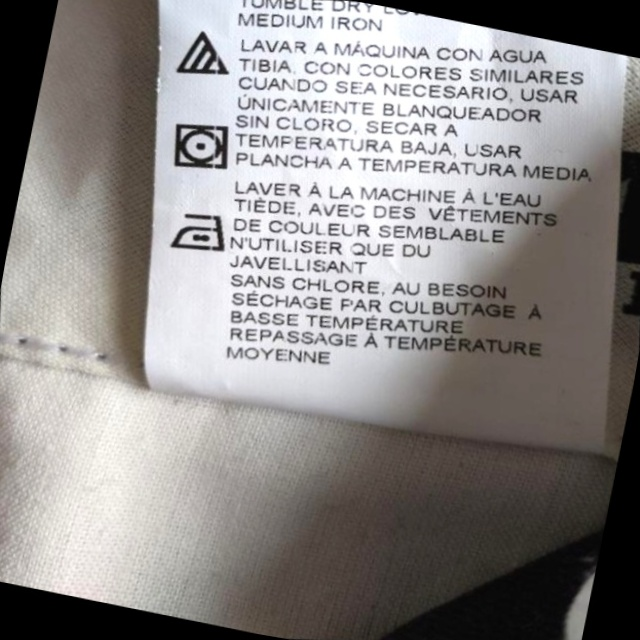iron_medium: (166, 200, 237, 262)
non_chlorine_bleach: (166, 16, 244, 93)
tumble_dry_low: (160, 109, 240, 182)
